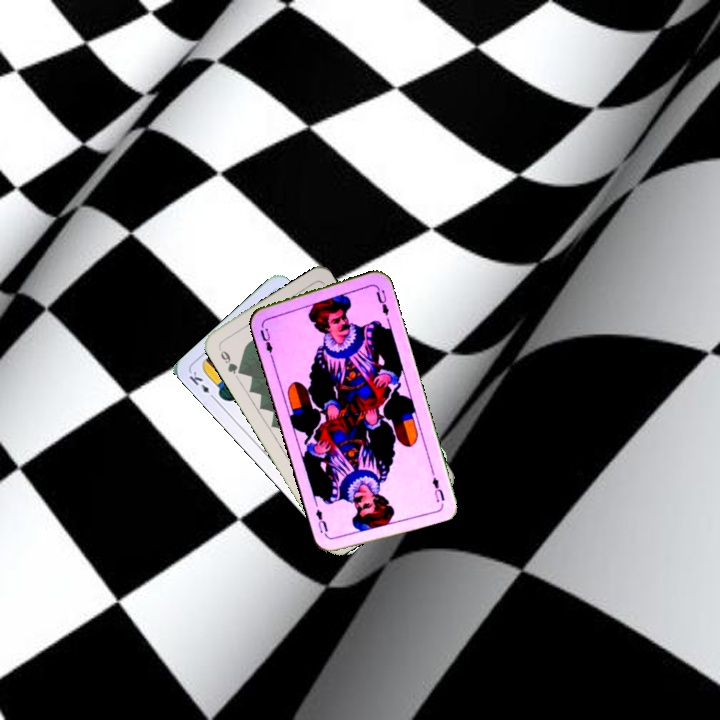EK: (185, 367, 218, 402)
EU: (428, 473, 447, 505), (256, 324, 275, 355)
G9: (215, 343, 245, 377)
